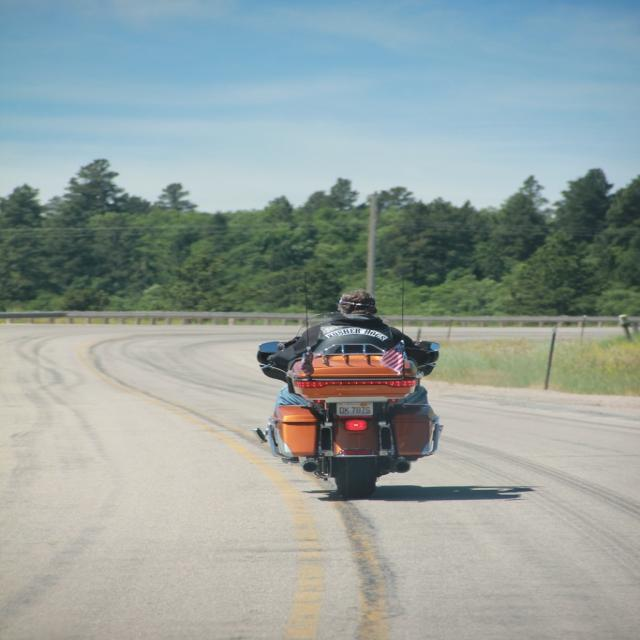Motorbikes: (253, 290, 468, 498)
